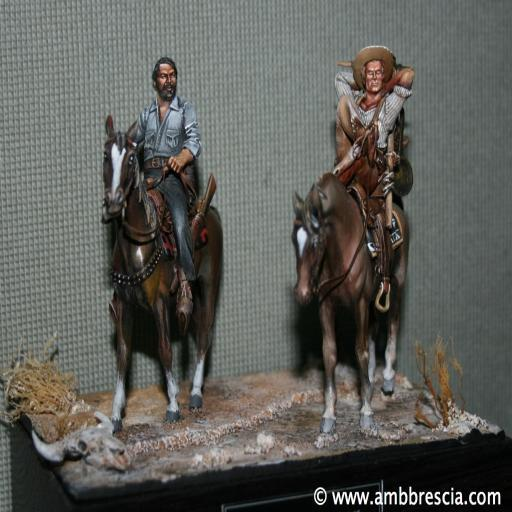horse: (103, 113, 220, 434), (288, 172, 412, 438)
